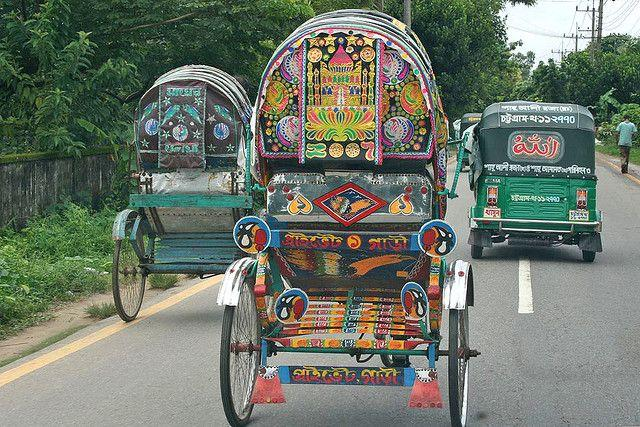Rickshaw: (218, 8, 483, 427), (114, 65, 252, 319)
